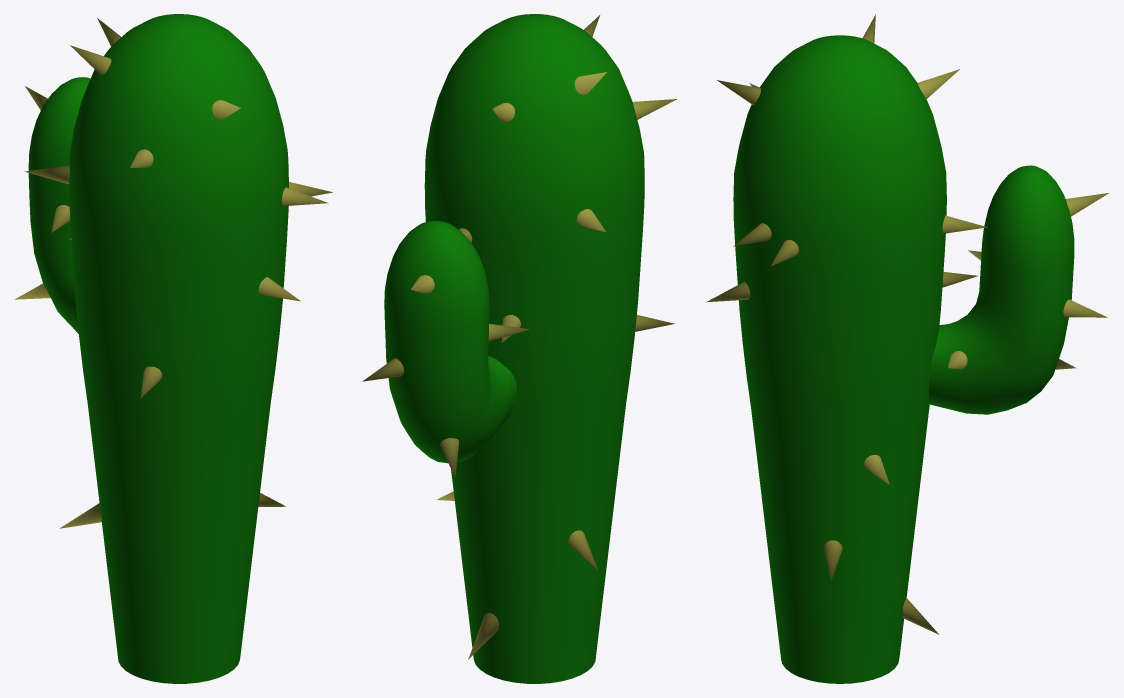
Rendered from cactus_2.fbx.
3 renders of one model, left to right at view 1: azimuth 30°, elevation 25°; view 2: azimuth 150°, elevation 25°; view 3: azimuth 270°, elevation 25°, orthographic. The views are drawn at different scales.
Visible parts, largest first — view 1: Cactus_2; view 2: Cactus_2; view 3: Cactus_2.
Boxes of the visible parts, box(x1,y1,x2,y2) form: Cactus_2: box(15, 14, 332, 683); Cactus_2: box(362, 14, 677, 683); Cactus_2: box(706, 14, 1108, 683).
Size of the model in its own units: 261 by 406 by 686.
